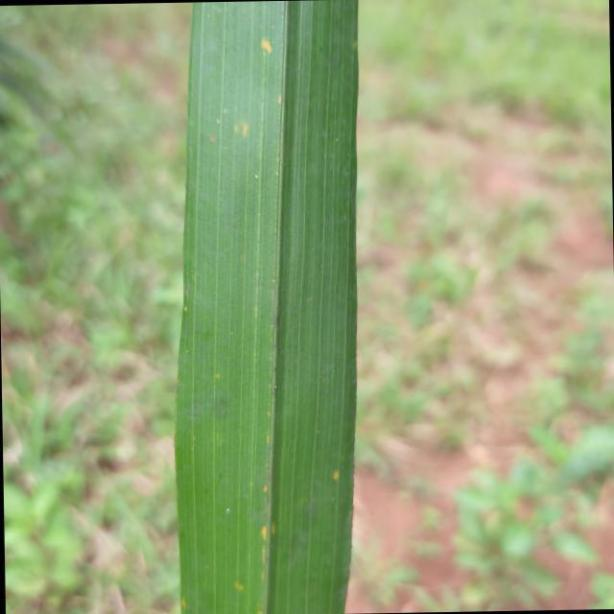Kalium: (171, 5, 360, 614)
